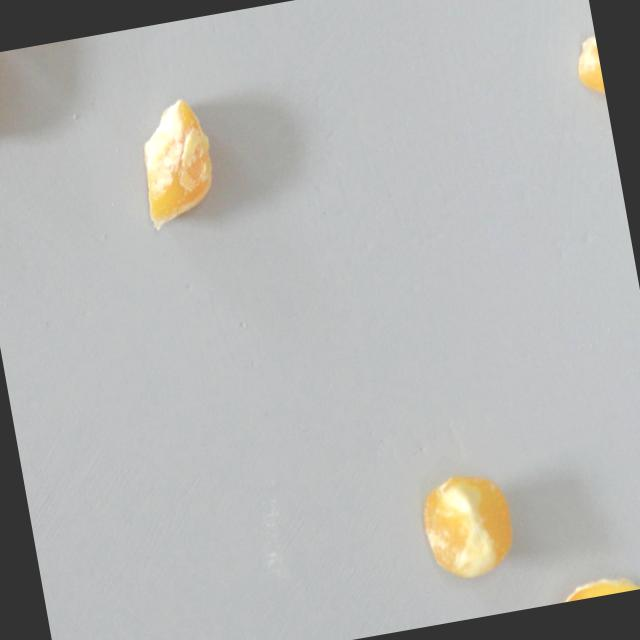dañado: (120, 87, 228, 244), (564, 26, 611, 135)
pelicula: (412, 464, 526, 585)
